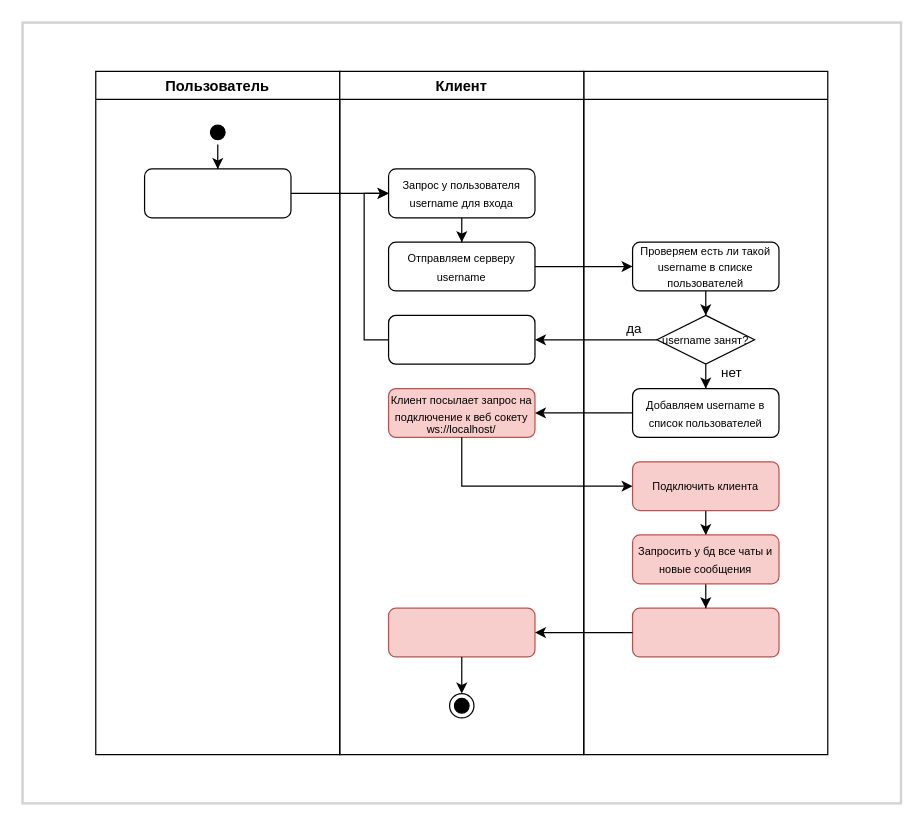
Image size: 922x825. Some labels were removed from this diagram. The shapes that lost their labels are listed below. From the top down, each one's box as (x1, y1, x2, y2) in pixels, then its label:
(143, 168, 291, 218): Заходит на сайт
(387, 314, 535, 364): Говорим пользователю что такой username занят!
(583, 70, 828, 755): Сервер
(387, 607, 535, 657): Отобразить все чаты и нвоые сообщения
(631, 607, 779, 657): Отдать список всех чатов и новых сообщений
